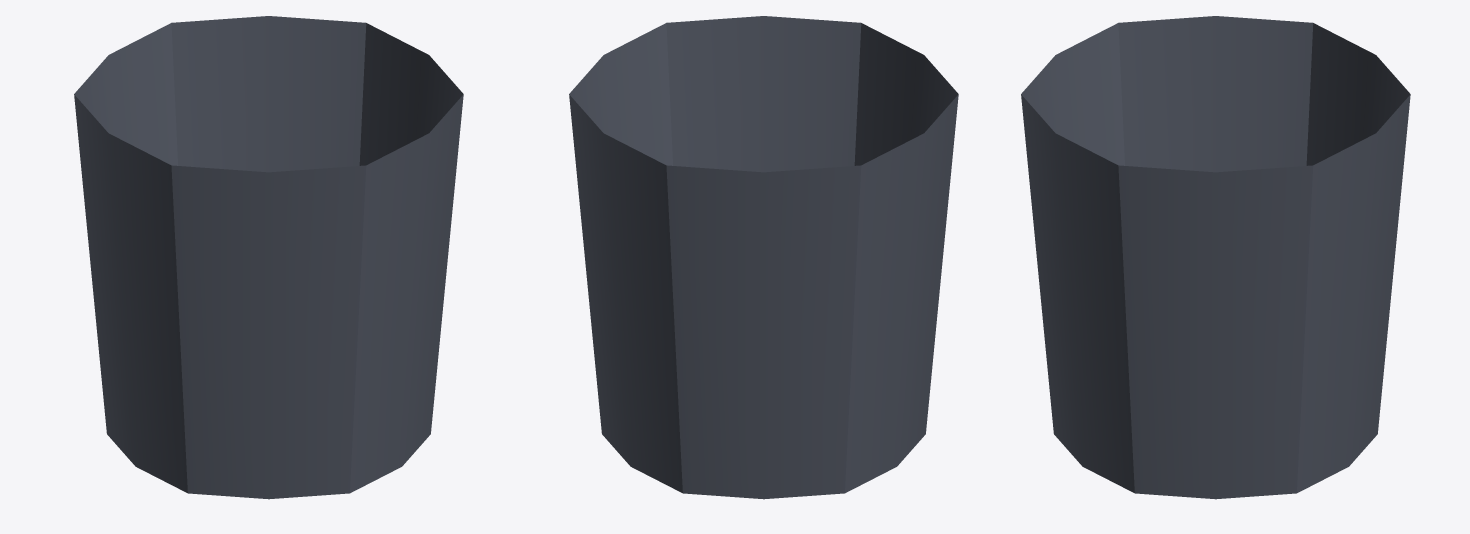
File: g_o_Waterbucket_Empty.fbx
The picture shows the model from 3 angles, left to right: view 1: azimuth 30°, elevation 25°; view 2: azimuth 150°, elevation 25°; view 3: azimuth 270°, elevation 25°; orthographic projection.
Visible parts, largest first — view 1: g_o_WaterBucket_Empty; view 2: g_o_WaterBucket_Empty; view 3: g_o_WaterBucket_Empty.
Boxes of the visible parts, box(x1,y1,x2,y2) form: g_o_WaterBucket_Empty: box(74, 16, 463, 499); g_o_WaterBucket_Empty: box(569, 16, 958, 499); g_o_WaterBucket_Empty: box(1021, 16, 1410, 499).
Size of the model in its own units: 0.3366 by 0.276 by 0.3189.
